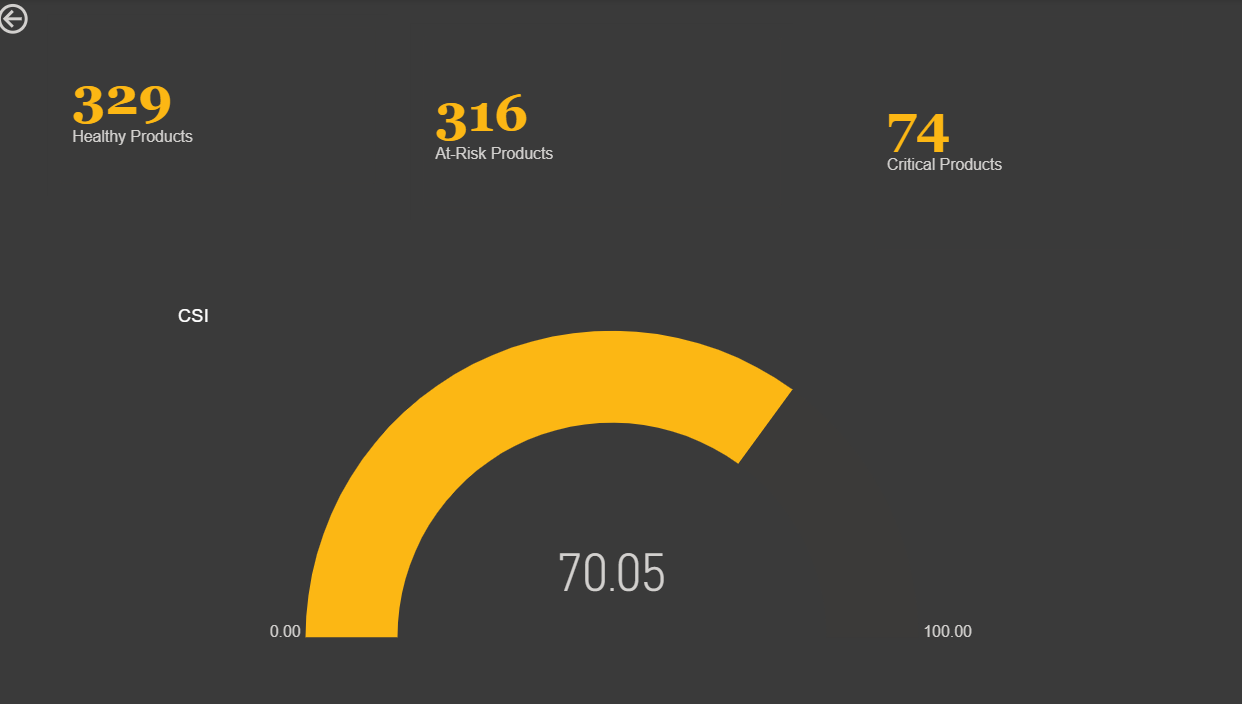

What the dashboard file says about the page in this screenshot:
{"tool":"powerbi","page":{"name":"Predictive","canvas":[1280,720],"ordinal":2},"visuals":[{"type":"cardVisual","fields":{"Data":["Reviews.Healthy Products"]},"box":[50,10,353.3,193.3],"z":0},{"type":"cardVisual","fields":{"Data":["Reviews.At-Risk Products"]},"box":[416.7,20,396.7,208.3],"z":1000},{"type":"cardVisual","fields":{"Data":["Reviews.Critical Products"]},"box":[871.7,0,346.7,270],"z":2000},{"type":"actionButton","box":[0,0,100,40],"z":3000},{"type":"gauge","fields":{"Y":["Reviews.CSI"]},"box":[181.7,308.3,903.3,345],"z":4000}]}

Visuals, with their boxes in screenshot pixels (x1, y1, x2, y2), scaled from the page's 1280x720 canvas onto the 1242x704 screenshot:
cardVisual - Reviews.Healthy Products: x1=49, y1=10, x2=391, y2=199
cardVisual - Reviews.At-Risk Products: x1=404, y1=20, x2=789, y2=223
cardVisual - Reviews.Critical Products: x1=846, y1=0, x2=1182, y2=264
actionButton: x1=0, y1=0, x2=97, y2=39
gauge - Reviews.CSI: x1=176, y1=301, x2=1053, y2=639
